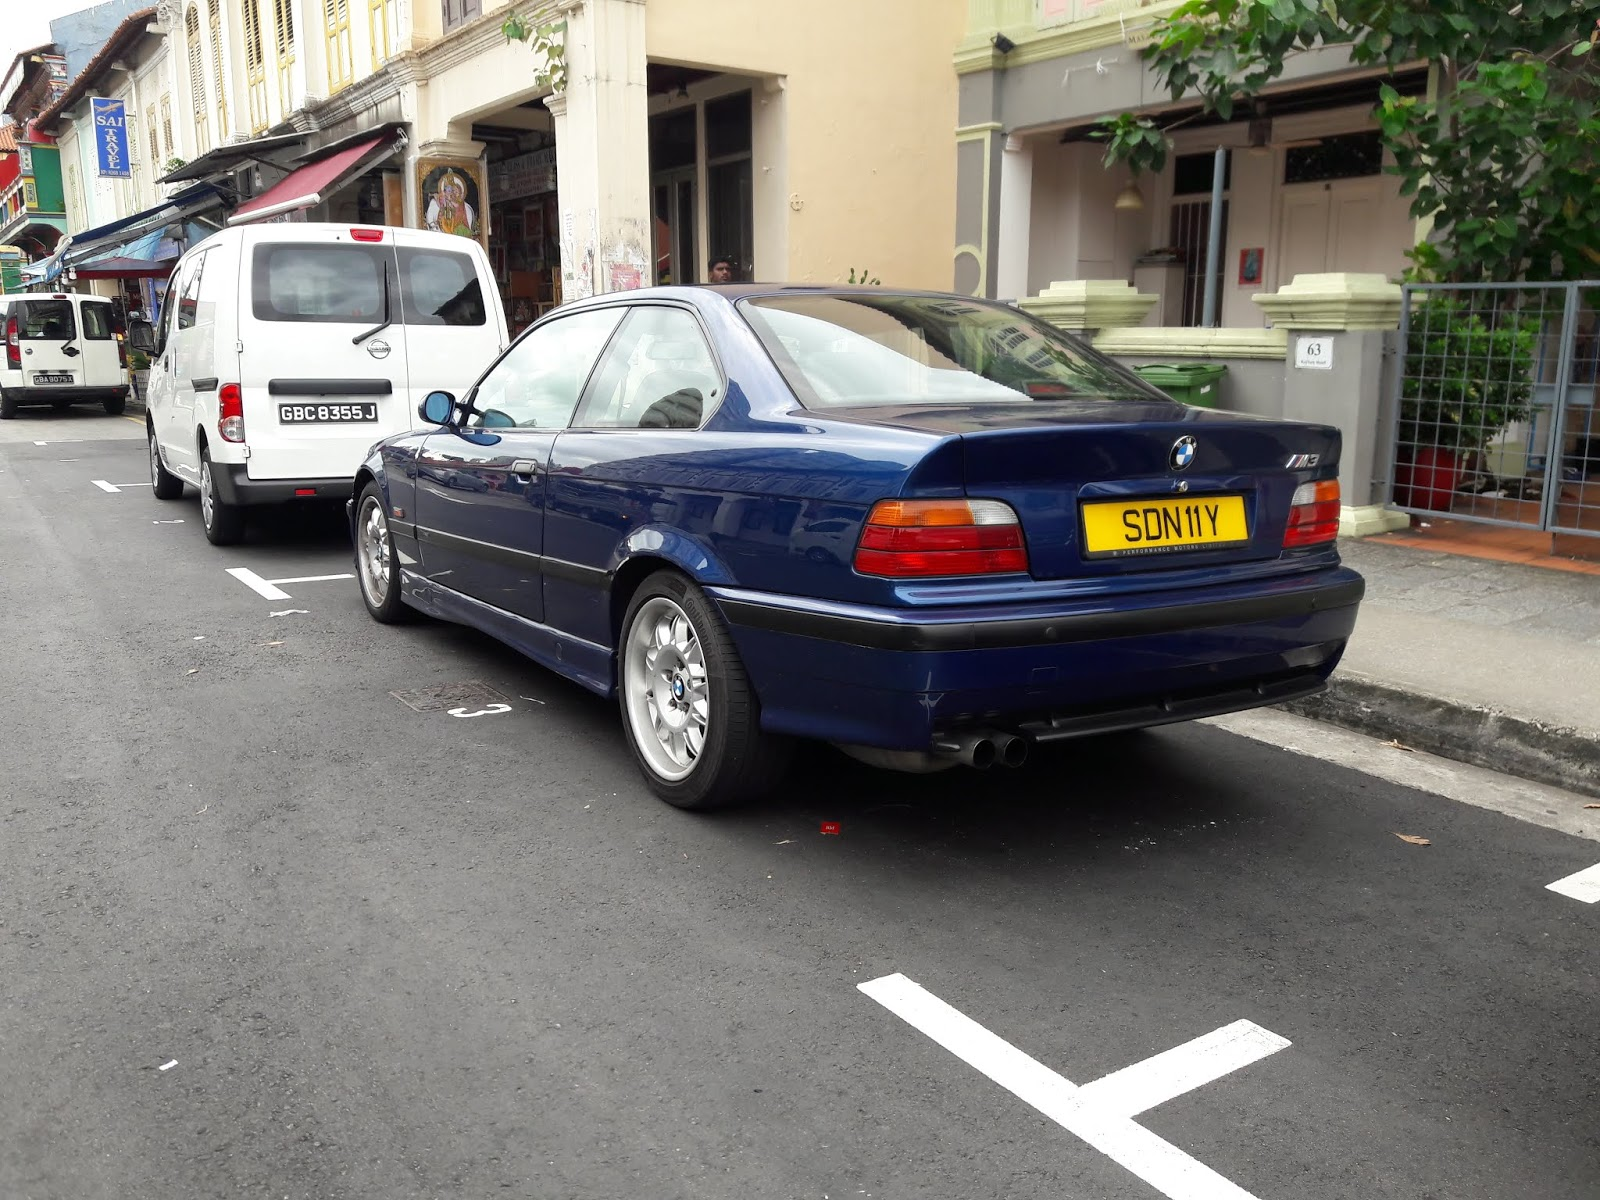car: (333, 275, 1373, 817), (130, 214, 519, 558), (1, 281, 135, 424)
